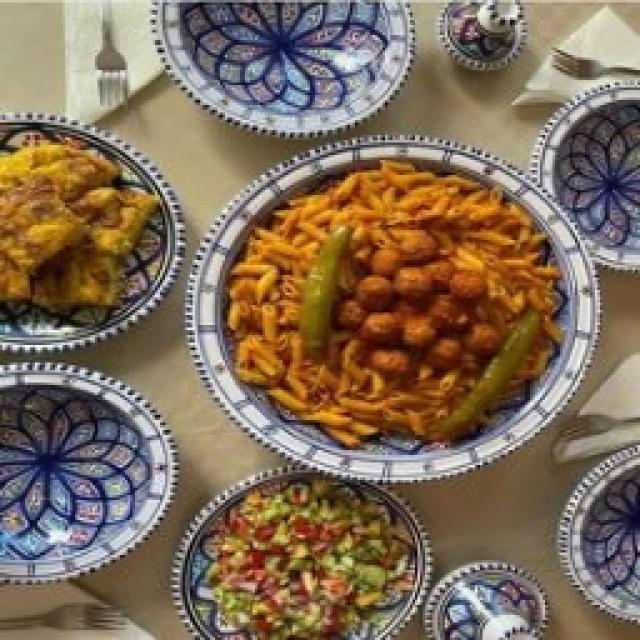Pasta: (229, 161, 556, 446)
